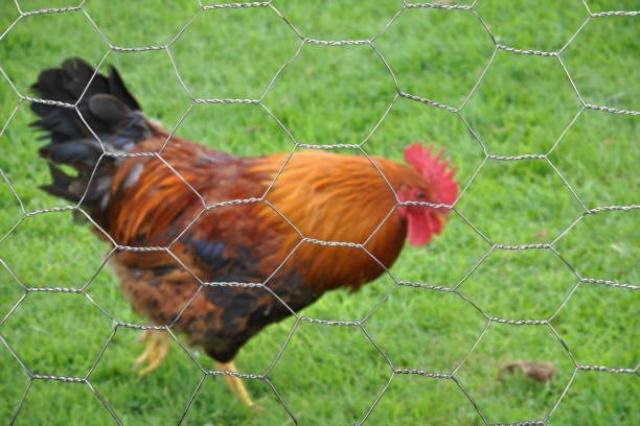Chicken: (27, 54, 459, 410)
